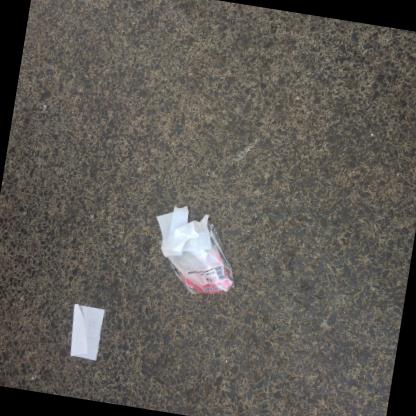Paper: (156, 205, 209, 256), (70, 302, 105, 360)
Plastic: (167, 219, 234, 293)
